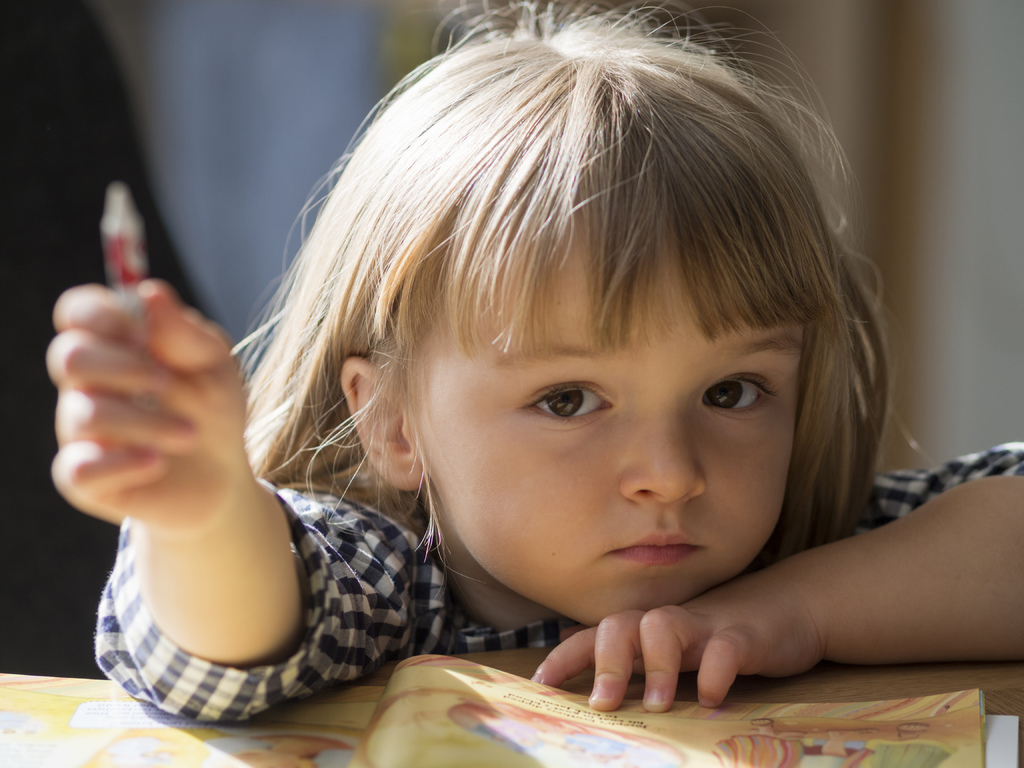Human_hand: (47, 278, 245, 532), (525, 593, 744, 712)
